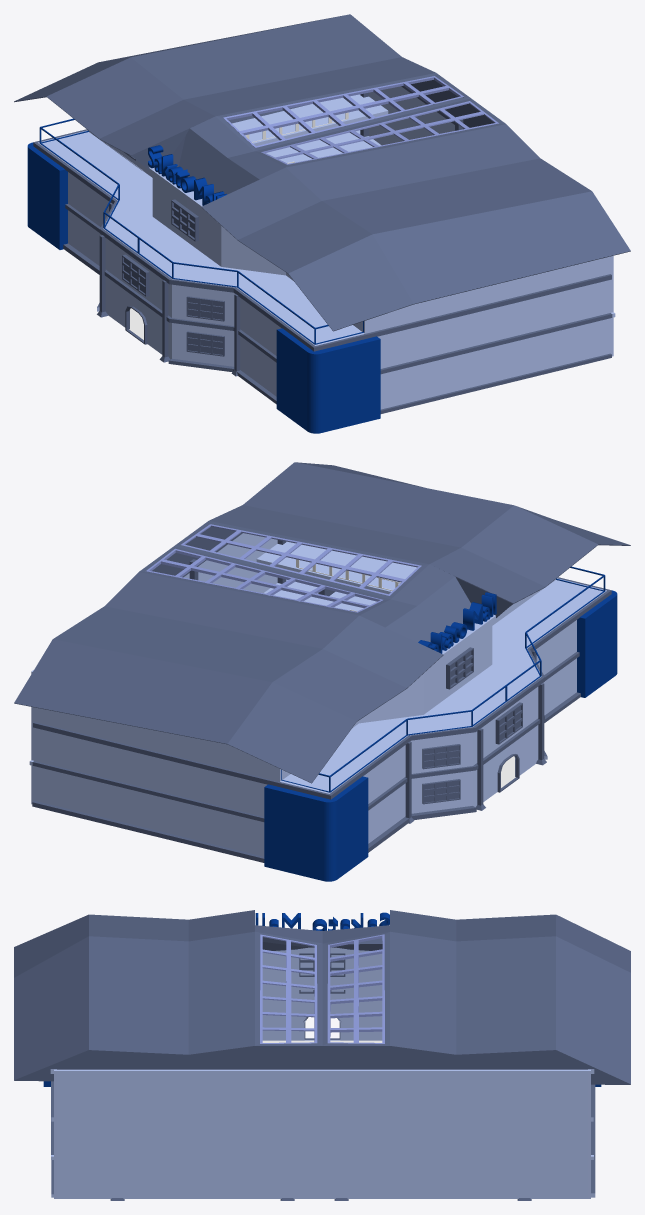
Rendered from Mall.glb.
3 renders of one model, top to bottom at view 1: azimuth 30°, elevation 25°; view 2: azimuth 150°, elevation 25°; view 3: azimuth 270°, elevation 25°, orthographic. The views are drawn at different scales.
Visible parts, largest first — view 1: Cube.074, Cube, Cube.064, Cube.029, Cube.169, Cube.030, Cube.075, Cube.032, Text.013, Cube.025, Cube.047, Cube.046 (+1 smaller); view 2: Cube.074, Cube, Cube.064, Cube.030, Cube.029, Cube.169, Cube.075, Cube.032, Text.013, Cube.027, Cube.028, Cube.047 (+2 smaller); view 3: Cube.074, Cube, Cube.169, Cube.075, Text.013, Cube.064.
Part boxes in pixels (bbox=[...]): Cube.074: bbox=[14, 14, 630, 331]; Cube: bbox=[38, 86, 615, 409]; Cube.064: bbox=[33, 129, 612, 413]; Cube.029: bbox=[276, 328, 380, 433]; Cube.169: bbox=[223, 76, 463, 147]; Cube.030: bbox=[27, 142, 67, 249]; Cube.075: bbox=[261, 101, 498, 164]; Cube.032: bbox=[39, 118, 363, 344]; Text.013: bbox=[148, 145, 226, 205]; Cube.025: bbox=[186, 331, 224, 356]; Cube.047: bbox=[171, 199, 198, 241]; Cube.046: bbox=[122, 254, 149, 296]; Cube.074: bbox=[14, 462, 630, 783]; Cube: bbox=[29, 533, 606, 856]; Cube.064: bbox=[32, 577, 611, 862]; Cube.030: bbox=[264, 776, 368, 881]; Cube.029: bbox=[577, 590, 617, 697]; Cube.169: bbox=[146, 548, 383, 612]; Cube.075: bbox=[181, 524, 421, 595]; Cube.032: bbox=[281, 566, 605, 792]; Text.013: bbox=[418, 592, 496, 653]; Cube.027: bbox=[422, 779, 460, 804]; Cube.028: bbox=[422, 744, 460, 769]; Cube.047: bbox=[446, 647, 473, 689]; Cube.074: bbox=[14, 910, 630, 1084]; Cube: bbox=[50, 947, 595, 1198]; Cube.169: bbox=[327, 934, 384, 1043]; Cube.075: bbox=[260, 934, 317, 1043]; Text.013: bbox=[255, 912, 389, 930]; Cube.064: bbox=[51, 1081, 595, 1194].
Size of the model in its own units: 331 by 154 by 530.
